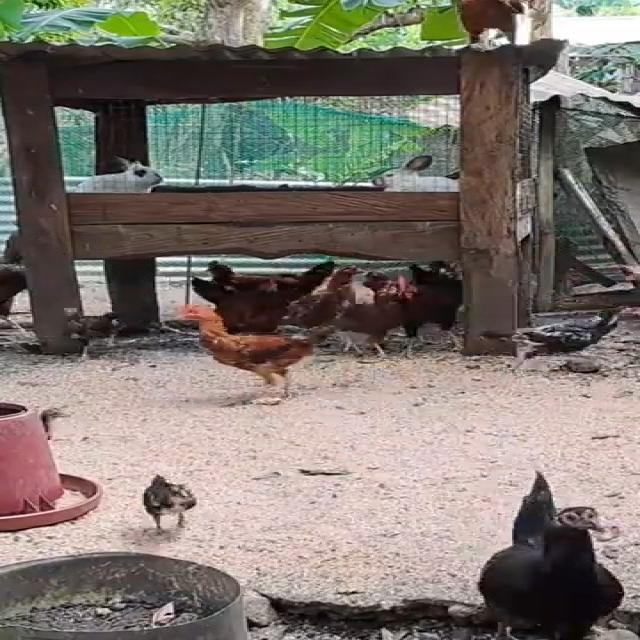running: (456, 469, 640, 640), (163, 301, 318, 404), (125, 464, 210, 530)
